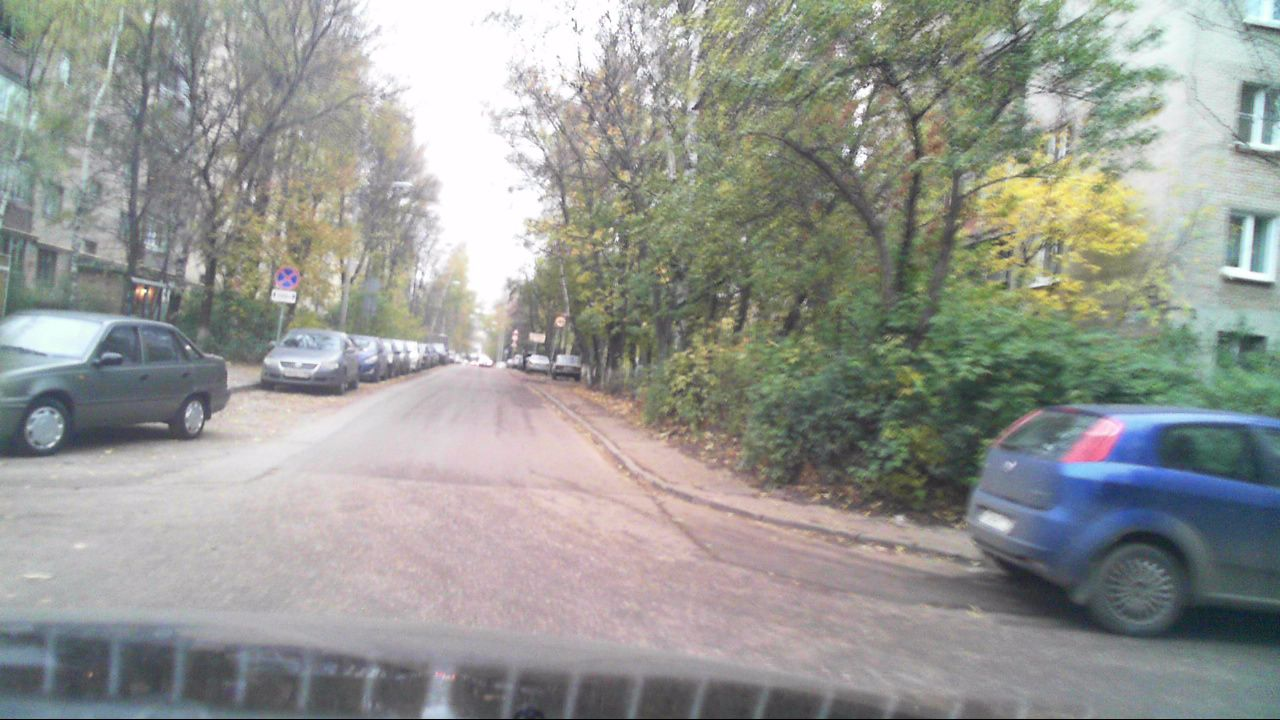No Parking: (275, 265, 299, 291)
